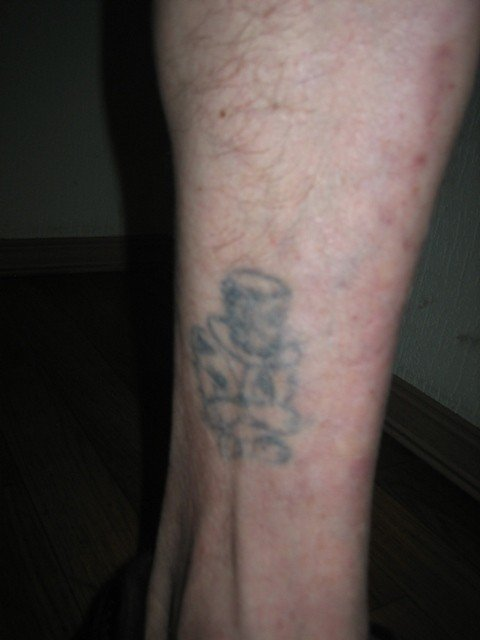tatu8_kot: (174, 258, 320, 466)
